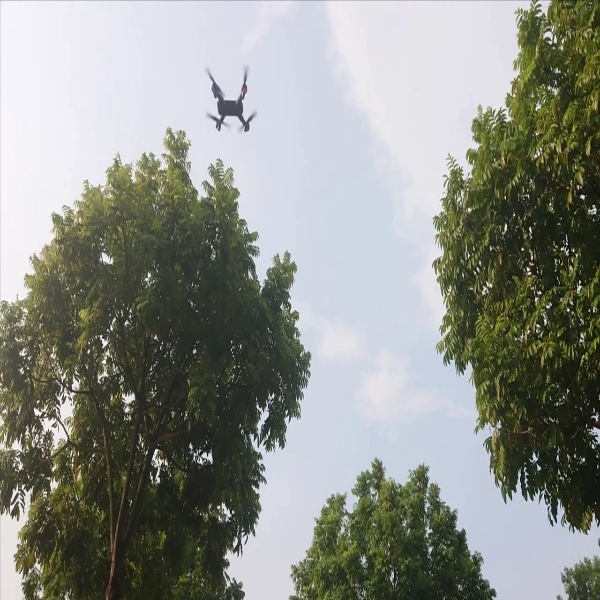drone: (193, 59, 265, 145)
